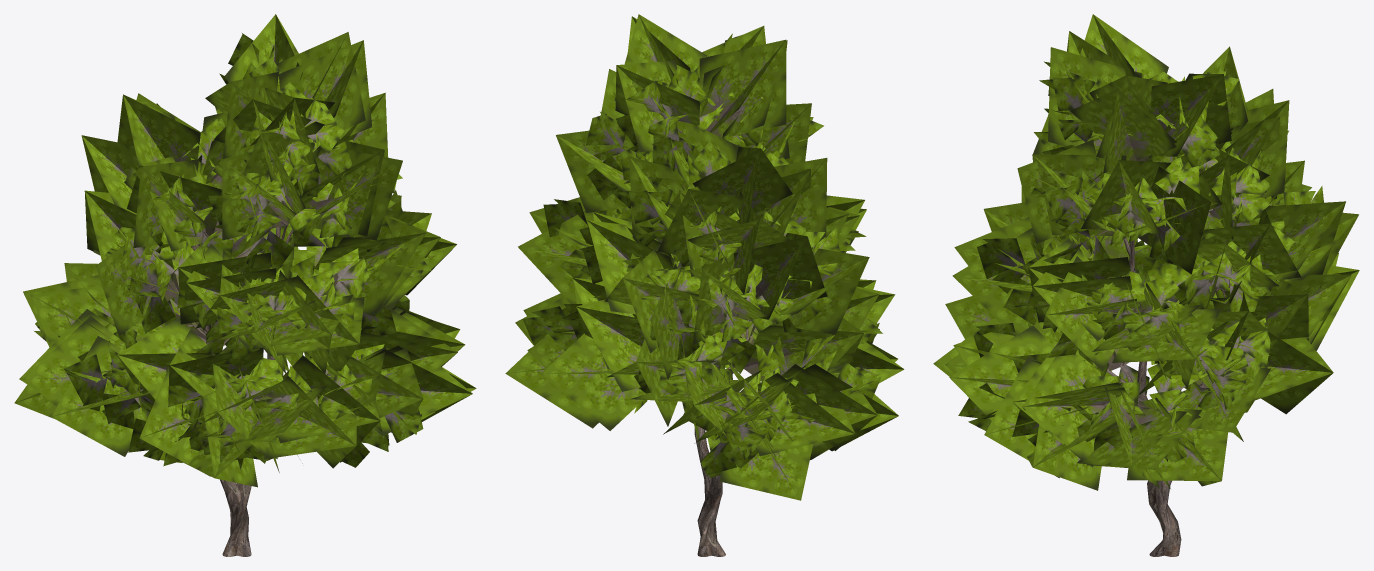
File: Gen02_04Elm01a.fbx
3 views of the same model, side by side, from view 1: azimuth 30°, elevation 25°; view 2: azimuth 150°, elevation 25°; view 3: azimuth 270°, elevation 25° (orthographic). The views are drawn at different scales.
Visible parts, largest first — view 1: Tree_1, Tree_2, Tree_0; view 2: Tree_1, Tree_2, Tree_0; view 3: Tree_1, Tree_2, Tree_0.
Boxes of the visible parts, box(x1,y1,x2,y2) form: Tree_1: box(14, 14, 476, 487); Tree_2: box(34, 33, 431, 469); Tree_0: box(96, 155, 337, 556); Tree_1: box(505, 14, 904, 500); Tree_2: box(522, 33, 882, 477); Tree_0: box(615, 105, 756, 556); Tree_1: box(933, 14, 1359, 490); Tree_2: box(958, 61, 1323, 462); Tree_0: box(1017, 150, 1240, 556).
Size of the model in its own units: 79.4 by 97.22 by 71.82.
